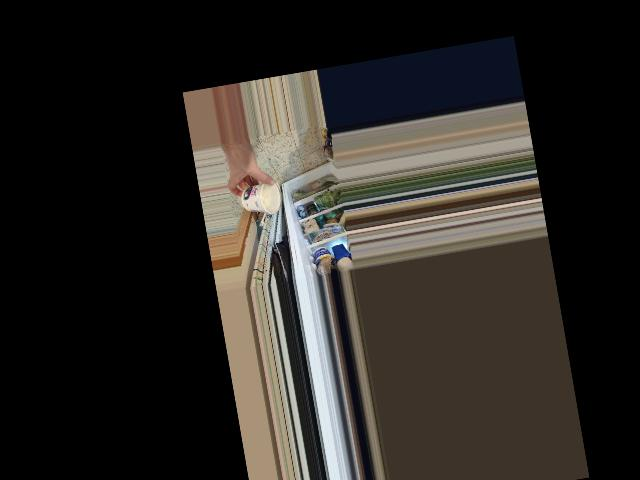cotage: (235, 178, 282, 217)
